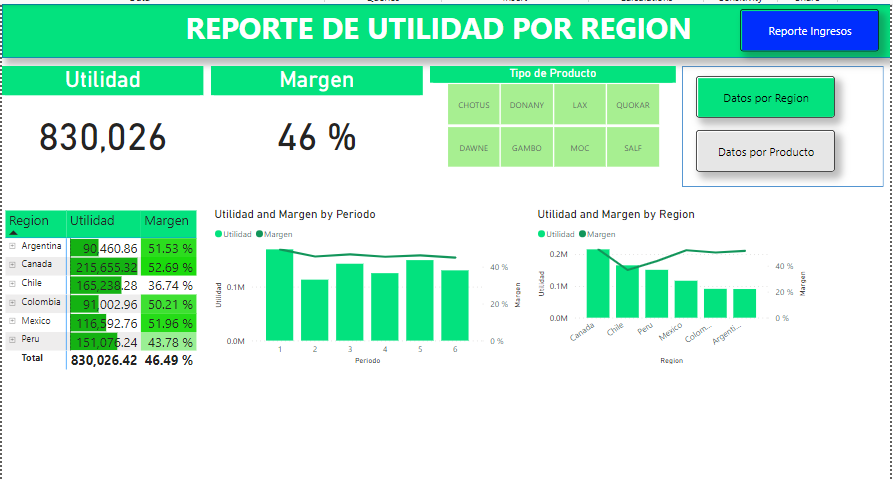

The dashboard page shown, as its layout file describes it:
{"tool":"powerbi","page":{"name":"Utilidad Region","canvas":[1280,720],"ordinal":5},"visuals":[{"type":"shape","box":[978.7,89.1,290.3,173.9],"z":0},{"type":"shape","box":[0,0,1280.5,77.6],"z":1000},{"type":"card","title":"Utilidad","fields":{"Values":["Finanzas1.Utilidad"]},"box":[0,89.1,290.3,152.3],"z":2000},{"type":"card","title":"Margen","fields":{"Values":["Finanzas1.Margen"]},"box":[300.4,89.1,304.7,152.3],"z":3000},{"type":"slicer","title":"Tipo de Producto","fields":{"Values":["LookupProducto.Tipo de Producto"]},"box":[616.5,89.1,353.5,152.3],"z":4000},{"type":"pivotTable","fields":{"Rows":["LookupCliente.Region","Finanzas1.Producto"],"Values":["Finanzas1.Utilidad","Finanzas1.Margen"]},"box":[0,291.7,290.3,244.3],"z":5000},{"type":"lineClusteredColumnComboChart","fields":{"Category":["LookupCliente.Region"],"Y":["Finanzas1.Utilidad"],"Y2":["Finanzas1.Margen"]},"box":[766,291.7,396.6,231.4],"z":6000},{"type":"lineClusteredColumnComboChart","fields":{"Y":["Finanzas1.Utilidad"],"Y2":["Finanzas1.Margen"],"Category":["Finanzas1.Periodo"]},"box":[300.4,291.7,451.2,231.4],"z":7000},{"type":"textbox","box":[188.3,0,879.5,77.6],"z":8000},{"type":"actionButton","title":"Producto","box":[998.8,181.1,199.8,60.4],"z":9000},{"type":"actionButton","title":"Region","box":[998.8,103.5,200,60],"z":10000},{"type":"actionButton","title":"Producto","box":[1062.2,7.4,200,60.7],"z":10001}]}

Visuals, with their boxes on the page's 1280x720 design canvas (x1, y1, x2, y2). These are canvas units, not pixel positions in the 893x480 screenshot, which may show the page scaled, cropped or inside an application window:
shape: 979,89,1269,263
shape: 0,0,1280,78
"Utilidad" card: 0,89,290,241
"Margen" card: 300,89,605,241
"Tipo de Producto" slicer: 616,89,970,241
pivotTable - LookupCliente.Region x Finanzas1.Producto: 0,292,290,536
lineClusteredColumnComboChart - LookupCliente.Region x Finanzas1.Utilidad: 766,292,1163,523
lineClusteredColumnComboChart - Finanzas1.Utilidad x Finanzas1.Margen: 300,292,752,523
textbox: 188,0,1068,78
"Producto" actionButton: 999,181,1199,242
"Region" actionButton: 999,104,1199,164
"Producto" actionButton: 1062,7,1262,68
